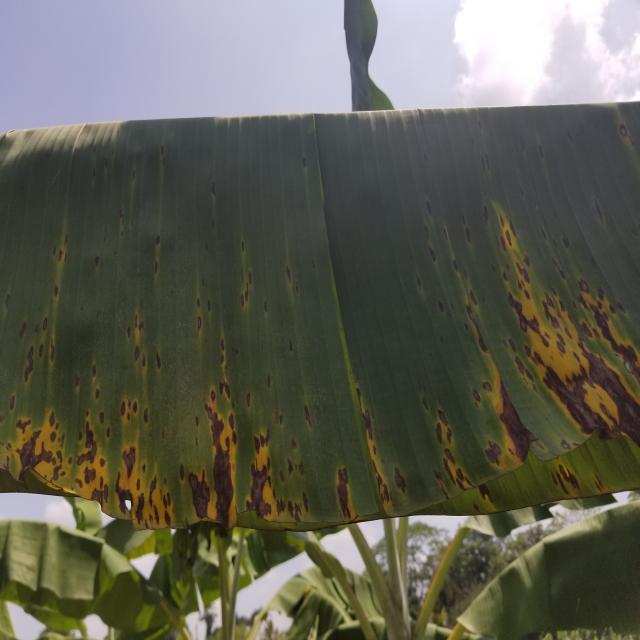Early_rust: (0, 79, 640, 551)
